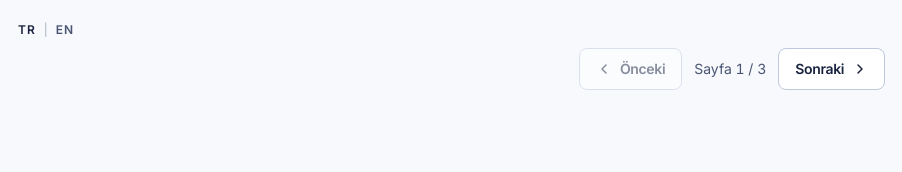
Test: LanguageToggle › switches the interface to English and back
Expected: the button "Sonraki" is shown, 778,48 -> 885,90
Step 1. Click the button "EN" → [65, 30], box 50,12 -> 80,48
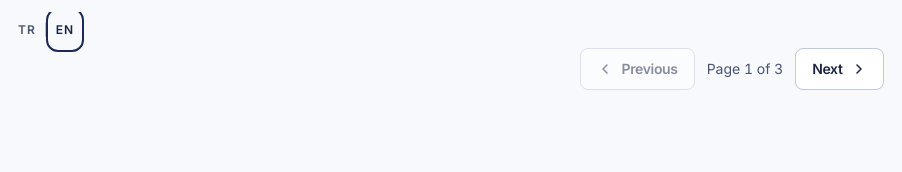
Result: the button "Next" is shown at 795,48 -> 884,90
Step 2. Click the button "TR" → [27, 30], box 12,12 -> 42,48
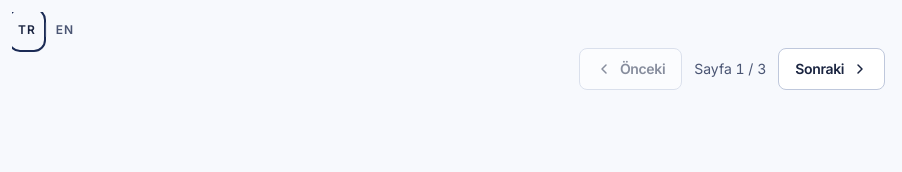
Result: the button "Sonraki" is shown at 778,48 -> 885,90
